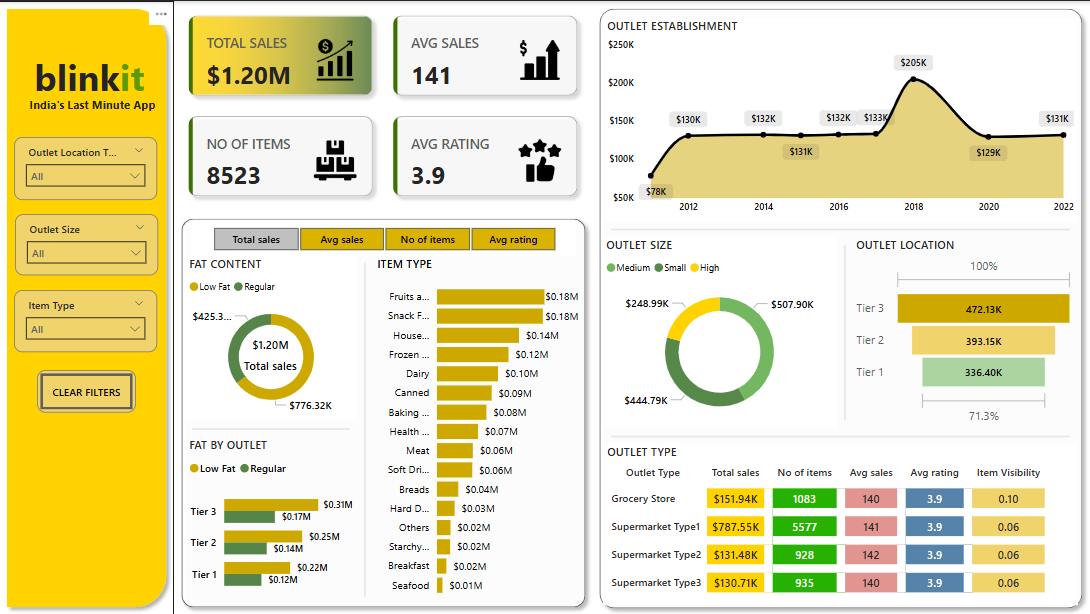

This screenshot's page, from the dashboard's own definition file:
{"tool":"powerbi","page":{"name":"blinkit sales dashboard","canvas":[1280,720],"ordinal":1},"visuals":[{"type":"shape","box":[0,0,205.2,720],"z":0},{"type":"textbox","box":[36.4,55.1,157.1,69.2],"z":1000},{"type":"textbox","box":[25.8,107.9,167.7,32.8],"z":2000},{"type":"cardVisual","fields":{"Data":["BlinkIT Grocery Data.Total sales","BlinkIT Grocery Data.Avg sales","BlinkIT Grocery Data.No of items","BlinkIT Grocery Data.Avg rating"]},"box":[205.2,0,491.3,246.3],"z":3000},{"type":"shape","box":[205.2,246.3,491.3,473.7],"z":4000},{"type":"donutChart","title":"FAT CONTENT","fields":{"Y":["BlinkIT Grocery Data.Total sales"],"Category":["BlinkIT Grocery Data.Item Fat Content"]},"box":[218.1,299,201.7,192.3],"z":5000},{"type":"slicer","fields":{"Values":["Metrics.Metrics"]},"box":[226.3,259.2,450.3,39.9],"z":6000},{"type":"card","fields":{"Values":["BlinkIT Grocery Data.Total sales"]},"box":[265,375.2,106.7,77.4],"z":7000},{"type":"clusteredBarChart","title":"FAT BY OUTLET","fields":{"Y":["BlinkIT Grocery Data.Total sales"],"Category":["BlinkIT Grocery Data.Outlet Location Type"],"Series":["BlinkIT Grocery Data.Item Fat Content"]},"box":[218.1,511.3,201.7,195.8],"z":8000},{"type":"shape","box":[226.3,491.3,185.3,21.1],"z":9000},{"type":"shape","box":[419.8,307.2,18.8,391.7],"z":10000},{"type":"barChart","title":"ITEM TYPE","fields":{"Y":["BlinkIT Grocery Data.Total sales"],"Category":["BlinkIT Grocery Data.Item Type"]},"box":[438.6,299,246.3,409.3],"z":11000},{"type":"shape","box":[695.4,0,584,721.2],"z":12000},{"type":"lineChart","title":"OUTLET ESTABLISHMENT","fields":{"Category":["BlinkIT Grocery Data.Outlet Establishment Year"],"Y":["BlinkIT Grocery Data.Total sales"]},"box":[708.3,19.9,557,239.2],"z":13000},{"type":"shape","box":[717.7,259.2,538.2,17.6],"z":14000},{"type":"donutChart","title":"OUTLET SIZE","fields":{"Y":["BlinkIT Grocery Data.Total sales"],"Category":["BlinkIT Grocery Data.Outlet Size"]},"box":[707.1,276.7,275.6,225.1],"z":15000},{"type":"shape","box":[983.8,286.1,16.4,205.2],"z":16000},{"type":"funnel","title":"OUTLET LOCATION","fields":{"Category":["BlinkIT Grocery Data.Outlet Location Type"],"Y":["Sum(BlinkIT Grocery Data.Sales)"]},"box":[1000.3,276.7,265,225.1],"z":17000},{"type":"shape","box":[717.7,501.9,538.2,17.6],"z":18000},{"type":"pivotTable","title":"OUTLET TYPE","fields":{"Rows":["BlinkIT Grocery Data.Outlet Type"],"Values":["BlinkIT Grocery Data.Total sales","BlinkIT Grocery Data.No of items","BlinkIT Grocery Data.Avg sales","BlinkIT Grocery Data.Avg rating","Avg(BlinkIT Grocery Data.Item Visibility)"]},"box":[708.3,519.5,557,188.8],"z":19000},{"type":"slicer","fields":{"Values":["BlinkIT Grocery Data.Outlet Location Type"]},"box":[17.6,159.5,167.7,73.9],"z":20000},{"type":"slicer","fields":{"Values":["BlinkIT Grocery Data.Outlet Size"]},"box":[18.8,249.8,167.7,71.5],"z":21000},{"type":"slicer","fields":{"Values":["BlinkIT Grocery Data.Item Type"]},"box":[17.6,338.9,167.7,72.7],"z":22000},{"type":"actionButton","box":[44.6,432.7,116.1,50.4],"z":23000}]}

Visuals, with their boxes in screenshot pixels (x1, y1, x2, y2), scaled from the page's 1280x720 canvas onto the 1090x614 screenshot:
shape: bbox=(0, 0, 175, 613)
textbox: bbox=(31, 47, 165, 106)
textbox: bbox=(22, 92, 165, 120)
cardVisual - BlinkIT Grocery Data.Total sales x BlinkIT Grocery Data.Avg sales: bbox=(175, 0, 593, 210)
shape: bbox=(175, 210, 593, 613)
"FAT CONTENT" donutChart: bbox=(186, 255, 357, 419)
slicer - Metrics.Metrics: bbox=(193, 221, 576, 255)
card - BlinkIT Grocery Data.Total sales: bbox=(226, 320, 317, 386)
"FAT BY OUTLET" clusteredBarChart: bbox=(186, 436, 357, 603)
shape: bbox=(193, 419, 351, 437)
shape: bbox=(357, 262, 373, 596)
"ITEM TYPE" barChart: bbox=(373, 255, 583, 604)
shape: bbox=(592, 0, 1089, 613)
"OUTLET ESTABLISHMENT" lineChart: bbox=(603, 17, 1077, 221)
shape: bbox=(611, 221, 1069, 236)
"OUTLET SIZE" donutChart: bbox=(602, 236, 837, 428)
shape: bbox=(838, 244, 852, 419)
"OUTLET LOCATION" funnel: bbox=(852, 236, 1077, 428)
shape: bbox=(611, 428, 1069, 443)
"OUTLET TYPE" pivotTable: bbox=(603, 443, 1077, 604)
slicer - BlinkIT Grocery Data.Outlet Location Type: bbox=(15, 136, 158, 199)
slicer - BlinkIT Grocery Data.Outlet Size: bbox=(16, 213, 159, 274)
slicer - BlinkIT Grocery Data.Item Type: bbox=(15, 289, 158, 351)
actionButton: bbox=(38, 369, 137, 412)
